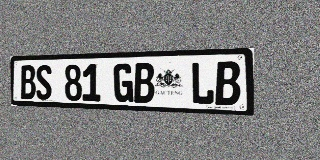1: (82, 64, 100, 101)
8: (64, 64, 82, 101)
B: (215, 61, 240, 106), (134, 63, 155, 103), (20, 65, 36, 99)
G: (114, 63, 133, 102)
L: (191, 62, 214, 105)
S: (36, 65, 52, 100)
